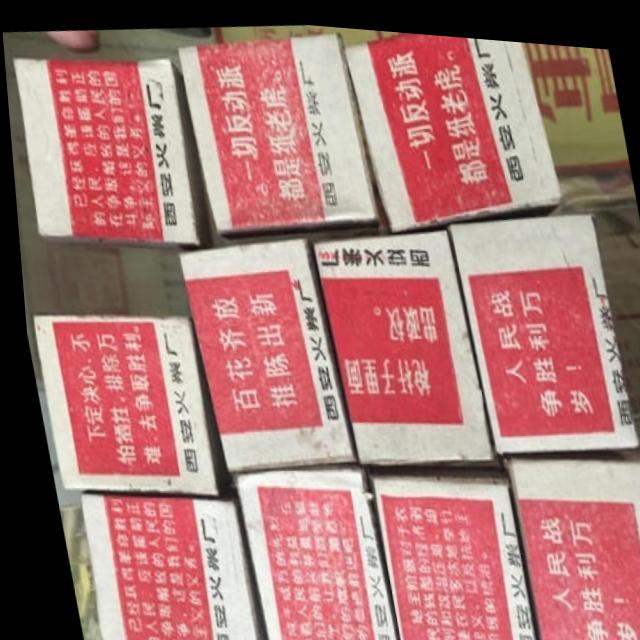box: (447, 205, 632, 445), (340, 26, 561, 225), (309, 219, 490, 454), (177, 26, 375, 239), (174, 234, 350, 471), (11, 53, 208, 249), (27, 316, 208, 488), (364, 460, 529, 640), (227, 462, 387, 640), (72, 491, 260, 640), (503, 452, 640, 640)
